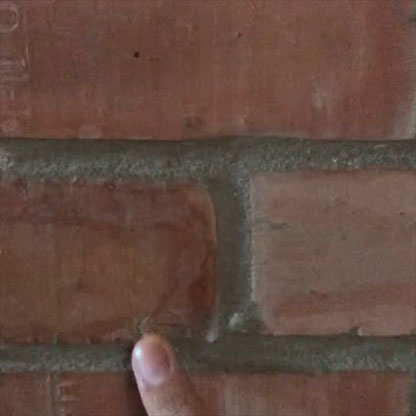fingertip: (122, 326, 184, 392)
